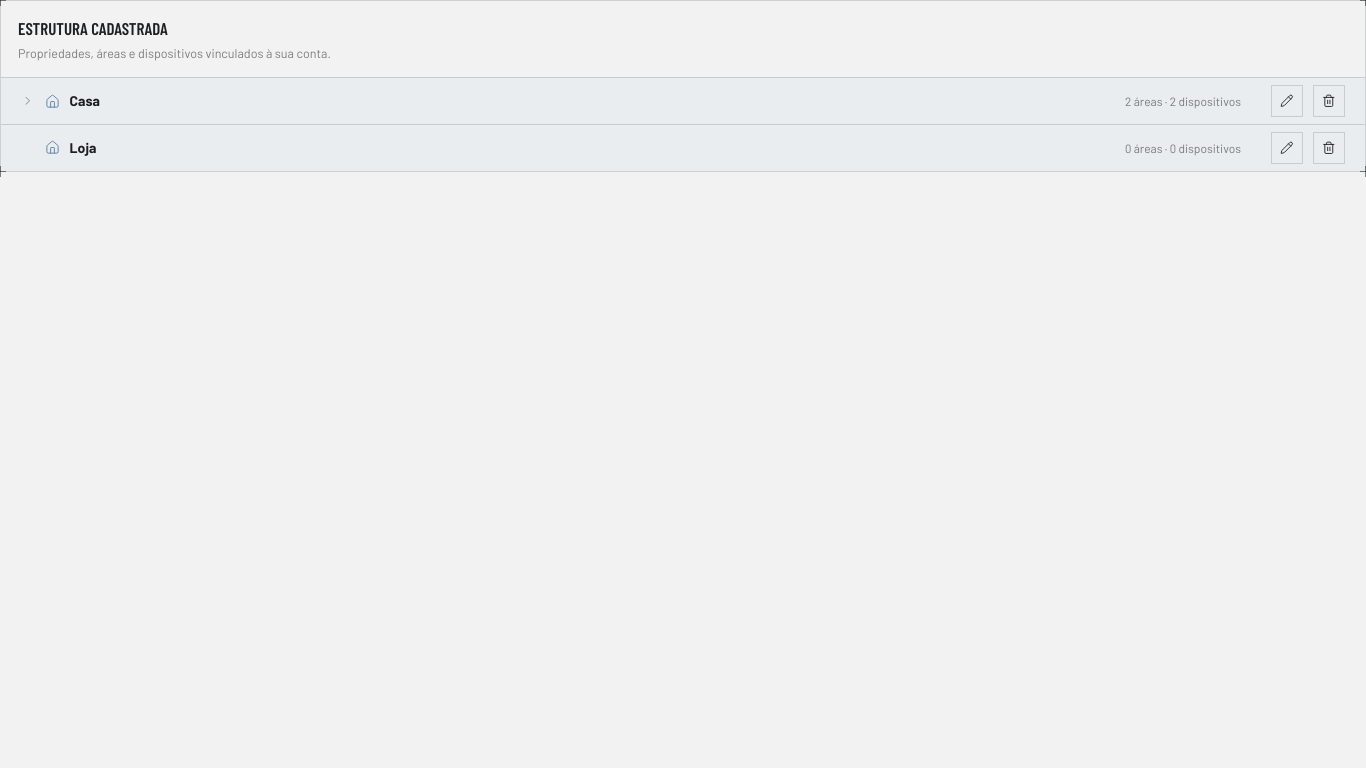
RegistrationTree — editar › abre o modal de propriedade com os dados carregados pelo id
This screenshot has width=1366, height=768.
Click the button named "Editar propriedade Casa": click(1287, 101) x1=1271 y1=85 x2=1303 y2=117
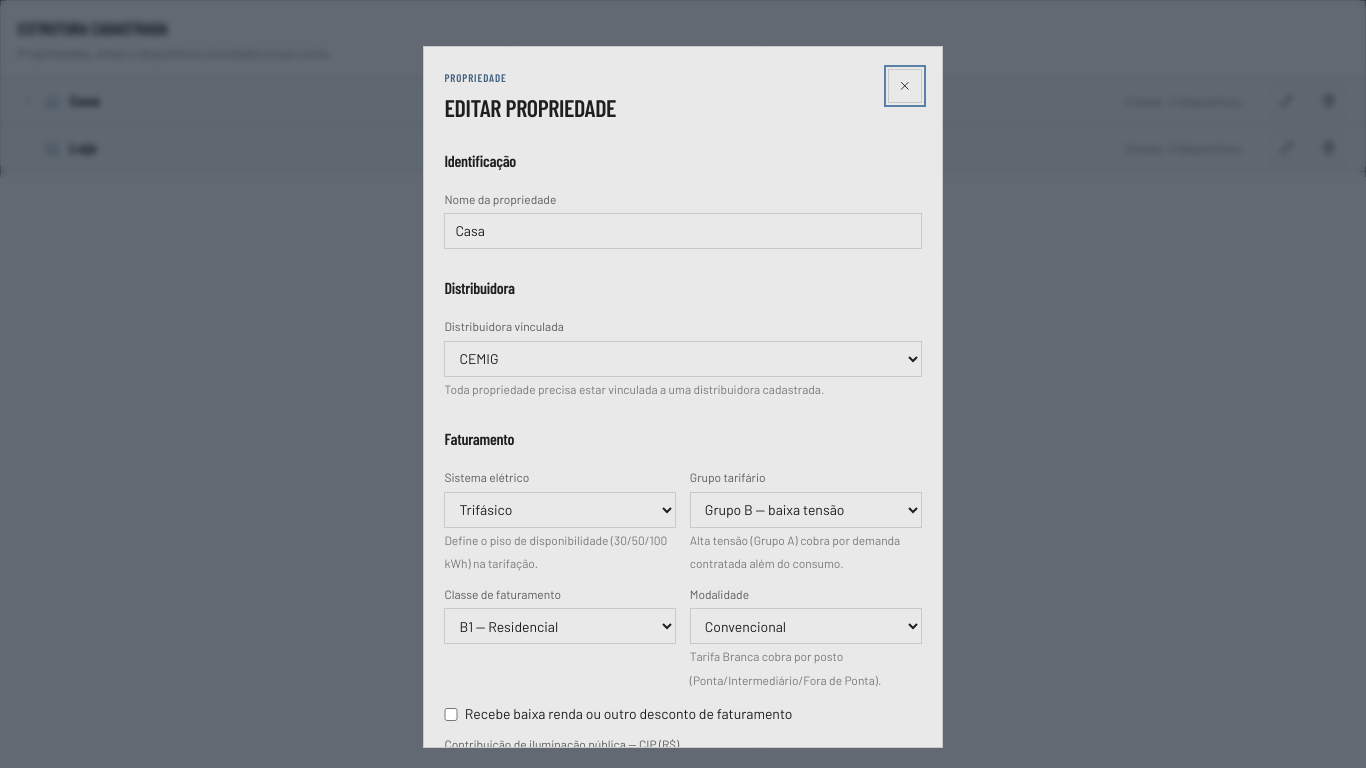
Expected: the dialog "Editar propriedade" is shown, x1=423 y1=46 x2=943 y2=748
Expected: the field labelled "Nome da propriedade" holds "Casa", x1=444 y1=213 x2=922 y2=249
